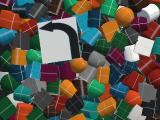Left: (37, 16, 81, 64)
